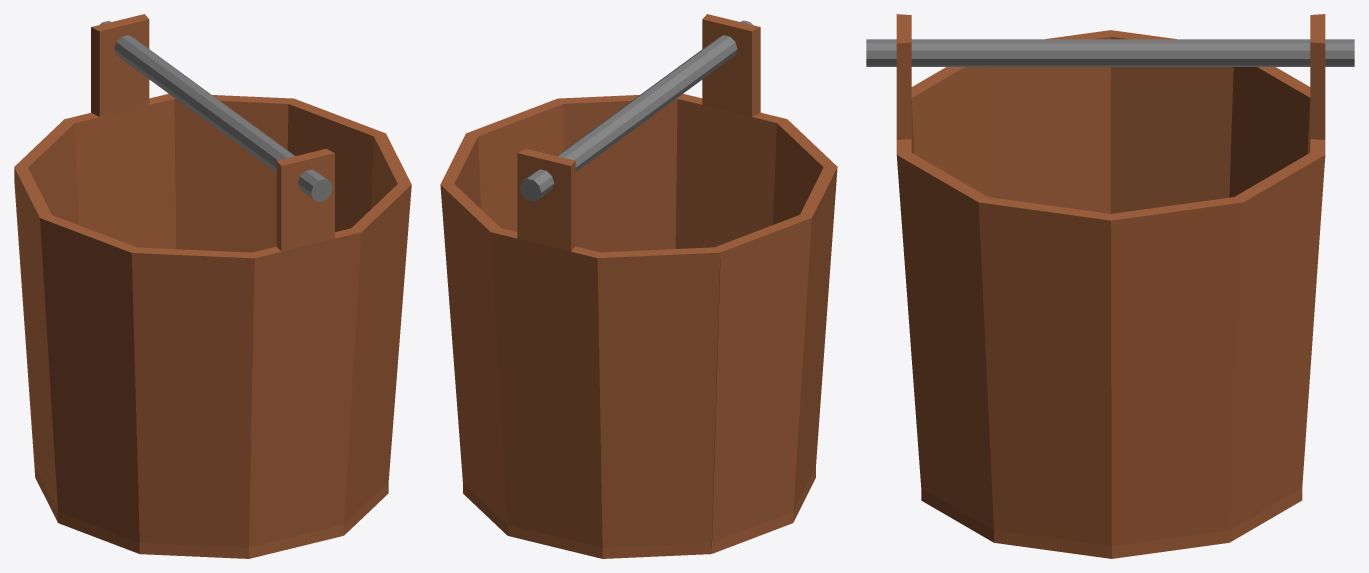
File: bucket02.obj
3 renders of one model, left to right at view 1: azimuth 30°, elevation 25°; view 2: azimuth 150°, elevation 25°; view 3: azimuth 270°, elevation 25°, orthographic. The views are drawn at different scales.
Visible parts, largest first — view 1: Cylinder.001_Cylinder.005; view 2: Cylinder.001_Cylinder.005; view 3: Cylinder.001_Cylinder.005.
Part boxes in pixels (x1,y1,x2,y2): Cylinder.001_Cylinder.005: (14,14,411,558); Cylinder.001_Cylinder.005: (440,14,837,558); Cylinder.001_Cylinder.005: (866,14,1354,558).
Bounding box in the file's own units: 0.4302 × 0.4697 × 0.4659.
